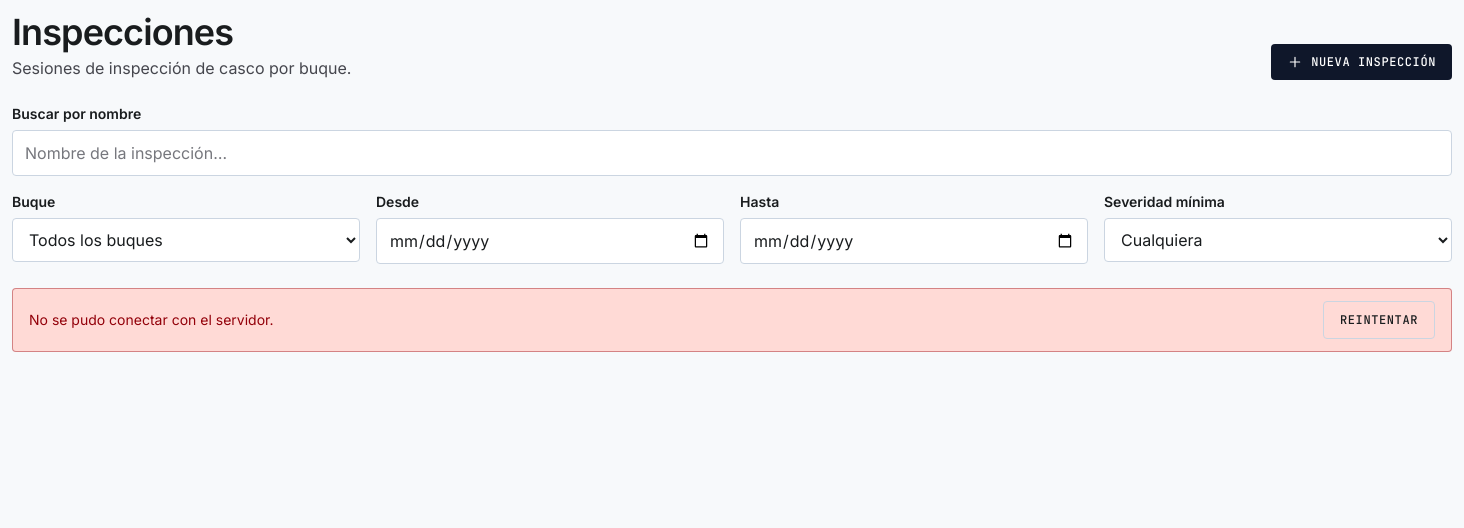
Test: ListaInspeccionesPage › shows the loading error and retries on demand
Expected: the message shows "No se pudo conectar con el servidor.", top-left (29, 311), bottom-right (274, 328)
What coordinates should you click on to do the following:
click the button "Reintentar"
I would click on:
 (1379, 320)
Its box is top-left (1323, 301), bottom-right (1435, 339).
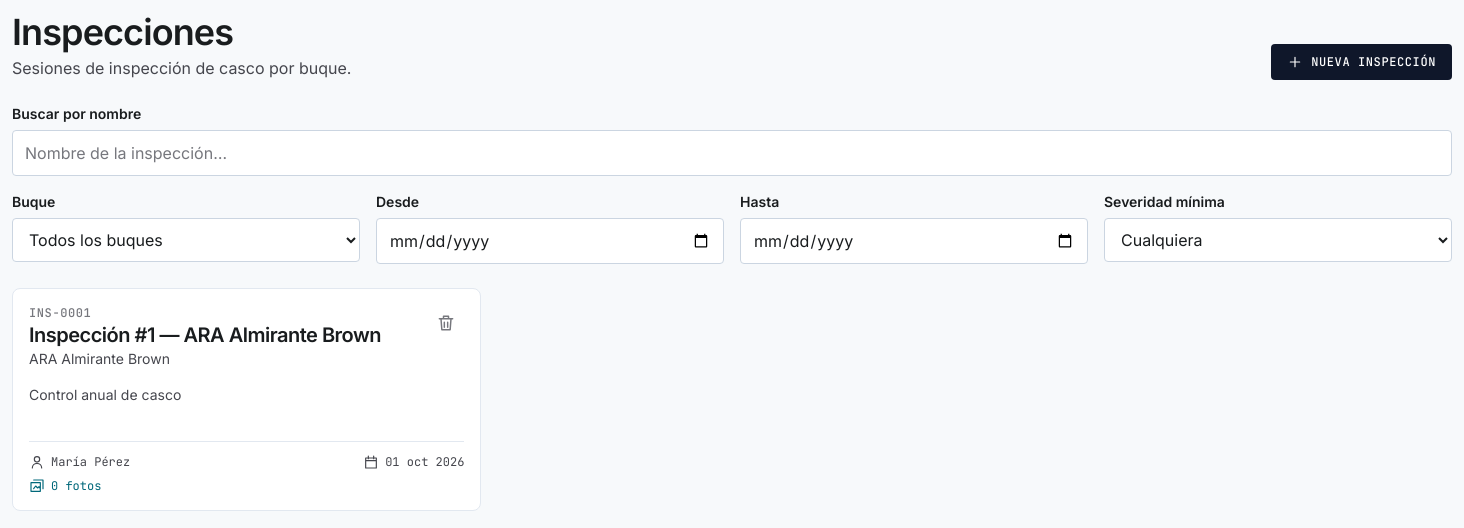
Now the element named "Inspección #1 — ARA Almirante Brown" is shown, box top-left (12, 288), bottom-right (481, 511)
